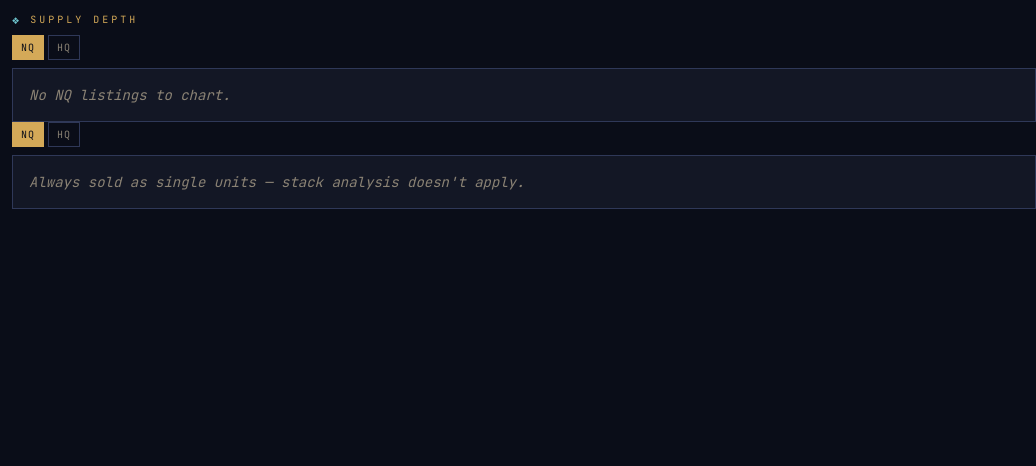
it: StackAnalyzerView › links NQ/HQ across sections through the shared store
Expected: the text "Always sold as single units — stack analysis doesn't apply." is shown, [12,155,1035,209]
Note: Switch HQ on the *Supply Depth* section…
Click the button "HQ" below "Supply depth". click: [64, 48]
box: [48,35,80,60]
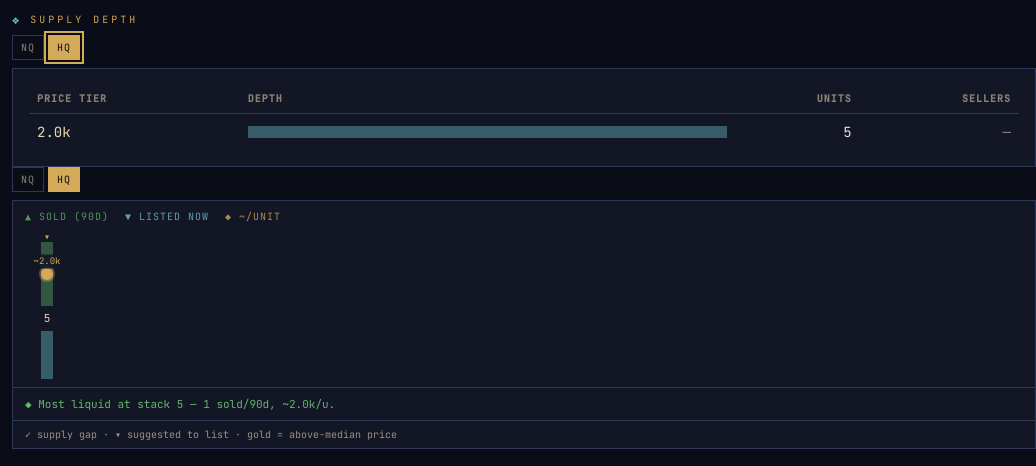
Expected: the text "▲ sold (90d)" is shown, [25,209,109,224]
